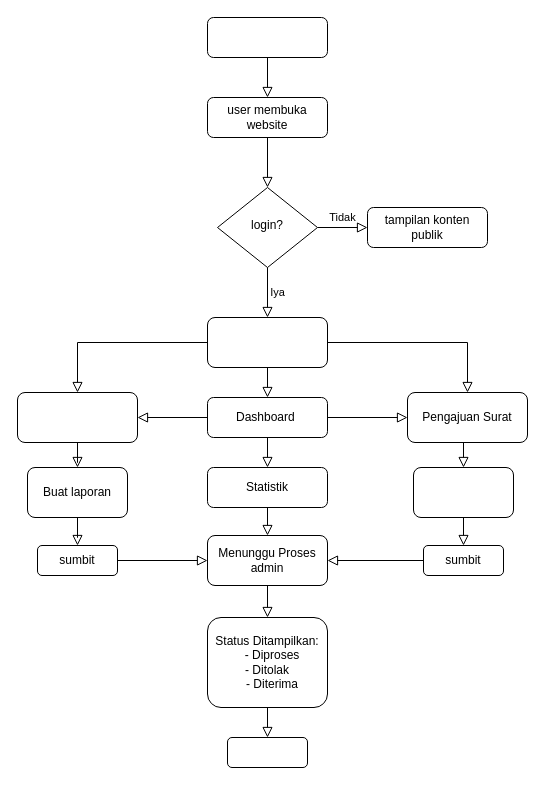
Image size: 545x785. Some labels were removed from this diagram. Each missing label, with the box of its shape:
Buat Pengajuan Surat: (412, 466, 514, 518)
Laporan: (16, 392, 138, 442)
Mulai: (206, 16, 328, 58)
Selesai: (226, 736, 308, 768)
tampilan konten publik + Fitur tambahan: (206, 316, 328, 368)
